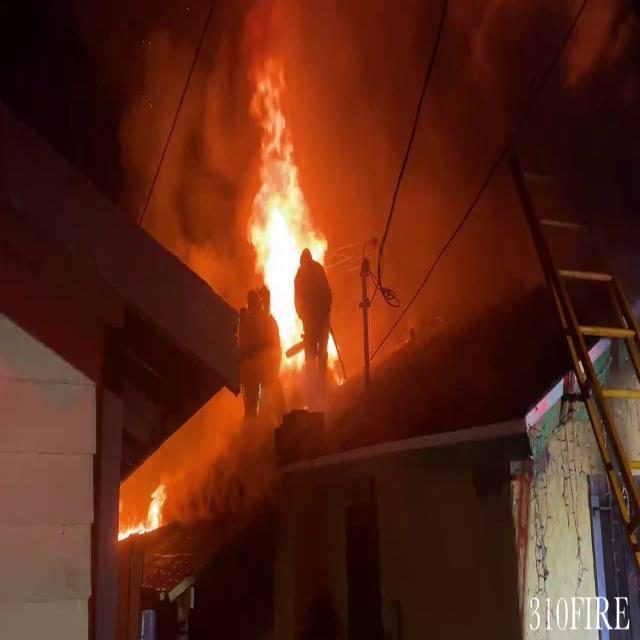Fire: (229, 67, 323, 369), (118, 474, 170, 546)
Smoke: (100, 3, 542, 312)
